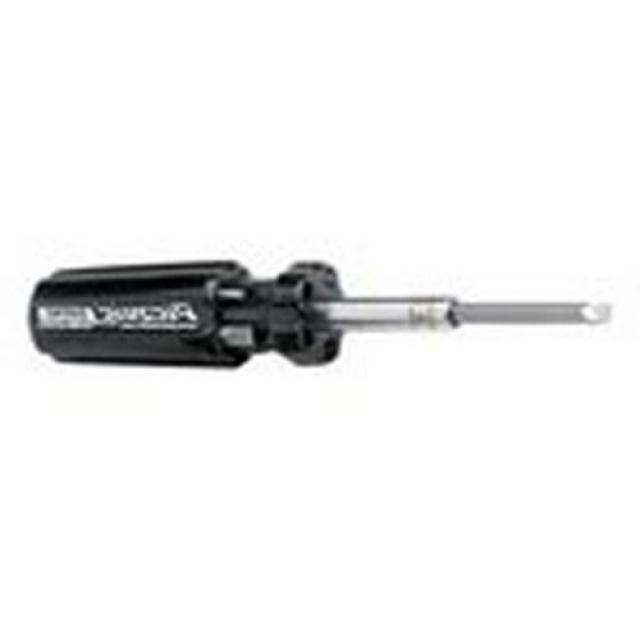screwdriver: (27, 241, 618, 373)
